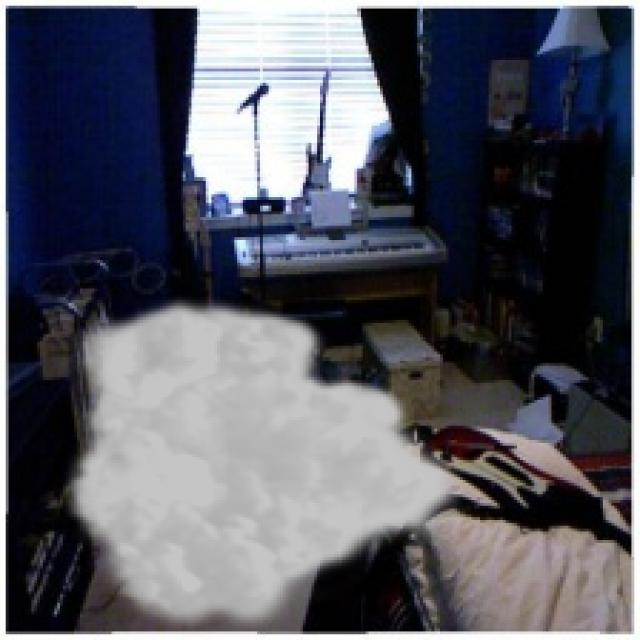Smoke: (63, 294, 466, 637)
